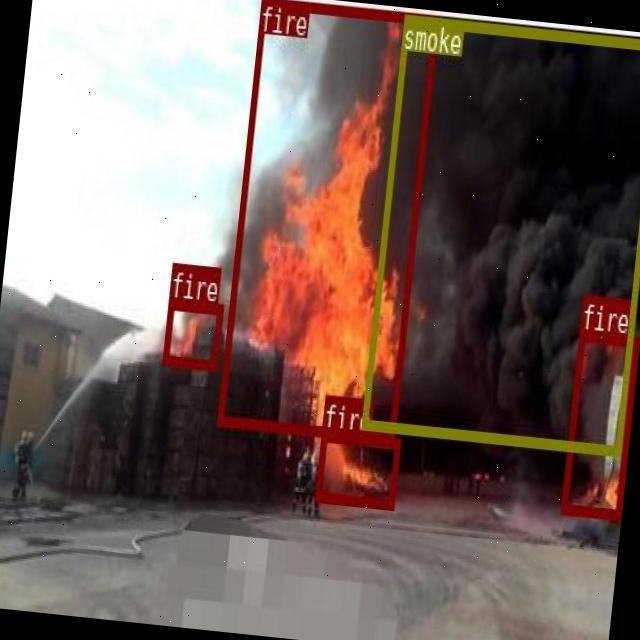fire: (216, 0, 437, 441), (560, 328, 638, 516), (314, 428, 401, 506), (162, 297, 222, 368)
smoke: (360, 13, 640, 453)
